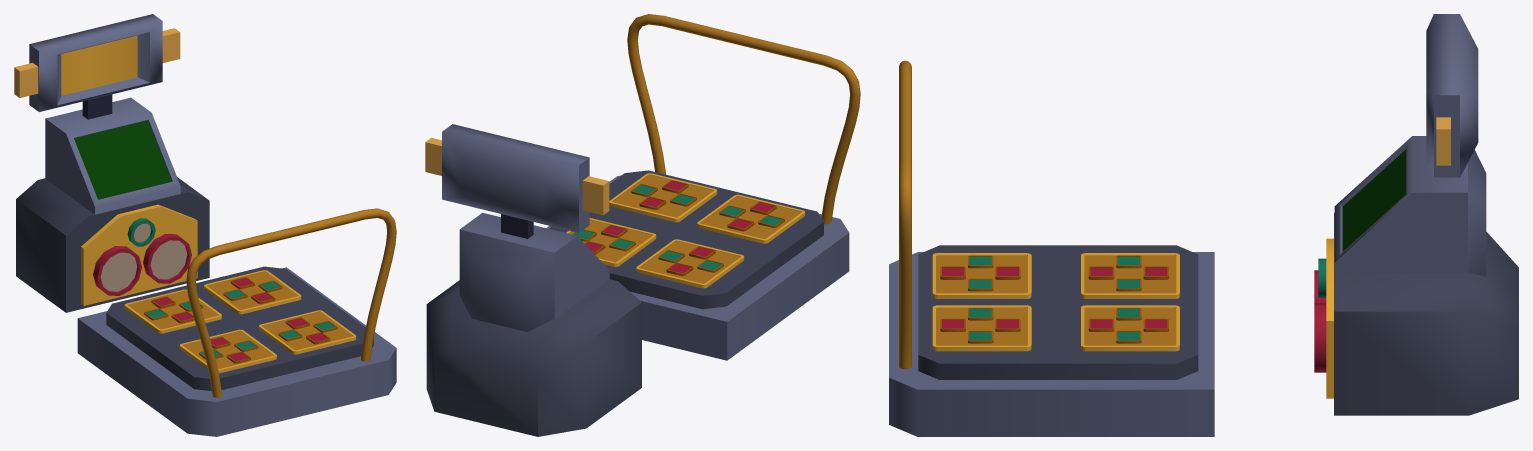
The model's file is FunMediumLvl1DanceMachine.fbx.
The picture shows the model from 3 angles, left to right: view 1: azimuth 30°, elevation 25°; view 2: azimuth 150°, elevation 25°; view 3: azimuth 270°, elevation 25°; orthographic projection. The views are drawn at different scales.
Visible parts, largest first — view 1: DanceMachine; view 2: DanceMachine; view 3: DanceMachine.
Part boxes in pixels (x1,y1,x2,y2): DanceMachine: (14,14,396,436); DanceMachine: (425,14,860,436); DanceMachine: (889,14,1518,436).
Size of the model in its own units: 31.62 by 32.8 by 59.68.
